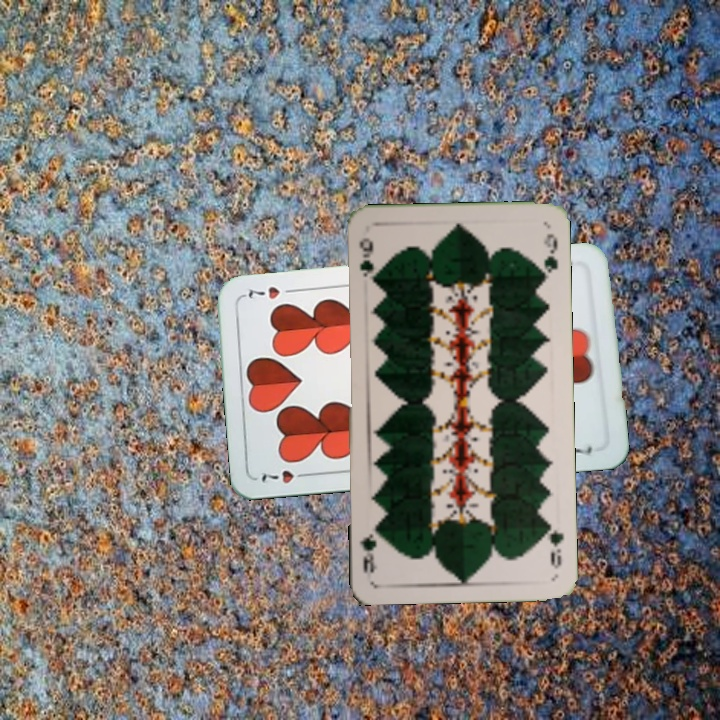G9: (541, 516, 567, 571), (355, 233, 377, 280)
H7: (257, 466, 314, 486)
